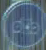bike lane: (2, 1, 42, 49)
